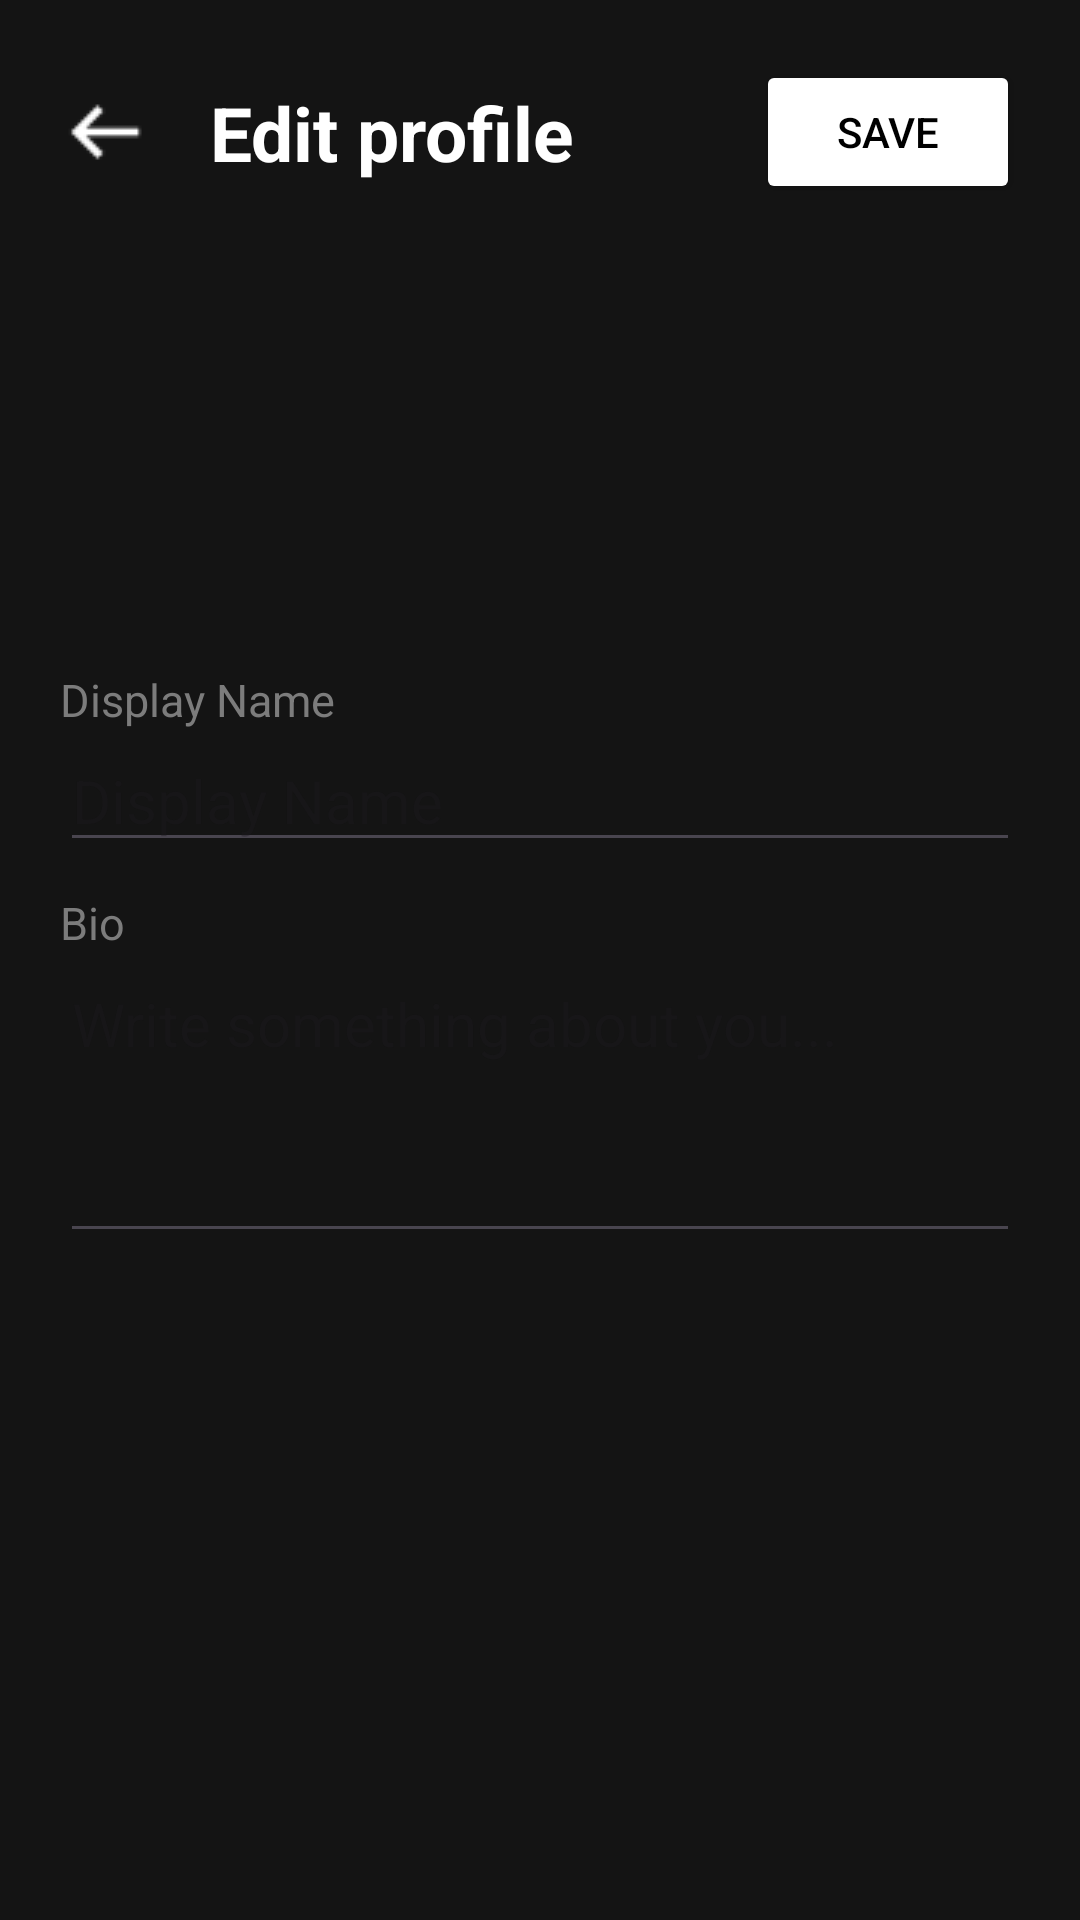

Locate icon controls on the screen. Image size 1080w x 1920h, boxes as rect(x1, y1, x2, y2).
back: rect(71, 104, 141, 160)
